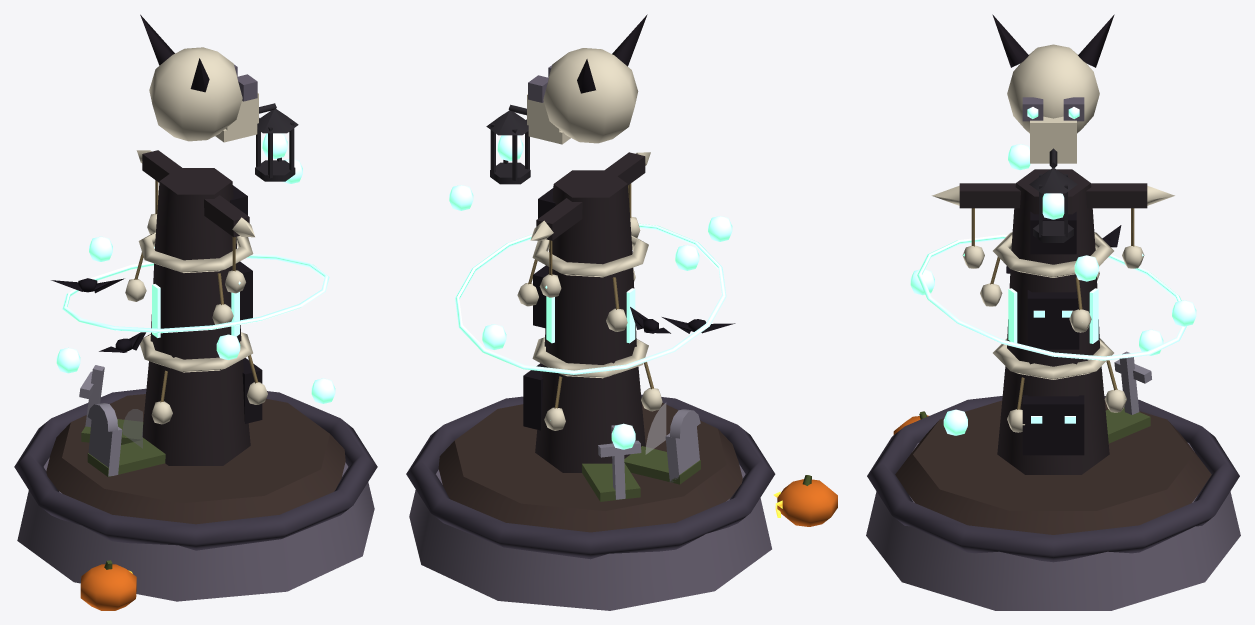
The model's file is tower_necromancer_soulLegion.glb.
The picture shows the model from 3 angles, left to right: view 1: azimuth 30°, elevation 25°; view 2: azimuth 150°, elevation 25°; view 3: azimuth 270°, elevation 25°; orthographic projection. The views are drawn at different scales.
Parts seen in each view (by area): view 1: grave_soil, base, base_rim, pole_0, skull_cranium, pole_2, pole_1, wisp_orbit, deco_hw_jack_body, bone_ring_1, crossbar, bone_ring_0 (+16 smaller); view 2: grave_soil, base, base_rim, pole_0, skull_cranium, pole_1, pole_2, wisp_orbit, deco_hw_jack_body, crossbar, bone_ring_1, bone_ring_0 (+12 smaller); view 3: grave_soil, base, base_rim, pole_0, skull_cranium, pole_2, pole_face_0, pole_1, crossbar, pole_face_1, wisp_orbit, bone_ring_0 (+16 smaller).
Part boxes in pixels (x1,y1,x2,y2): grave_soil: (46, 394, 345, 524); base: (17, 457, 374, 601); base_rim: (14, 388, 377, 550); pole_0: (142, 359, 250, 465); skull_cranium: (149, 47, 242, 141); pole_2: (155, 168, 236, 260); pole_1: (150, 248, 241, 359); wisp_orbit: (62, 254, 329, 333); deco_hw_jack_body: (80, 564, 136, 610); bone_ring_1: (138, 231, 253, 272); crossbar: (142, 150, 249, 237); bone_ring_0: (140, 332, 252, 372); grave_soil: (438, 402, 742, 532); base: (409, 464, 771, 610); base_rim: (406, 394, 775, 559); pole_0: (535, 365, 645, 472); skull_cranium: (543, 48, 638, 143); pole_1: (544, 251, 636, 364); pole_2: (549, 170, 632, 264); wisp_orbit: (455, 223, 726, 374); deco_hw_jack_body: (777, 479, 837, 526); crossbar: (536, 152, 645, 240); bone_ring_1: (532, 235, 648, 277); bone_ring_0: (532, 337, 648, 378); grave_soil: (895, 400, 1211, 534); base: (866, 442, 1240, 610); base_rim: (867, 396, 1239, 562); pole_0: (997, 366, 1109, 474); skull_cranium: (1007, 44, 1099, 133); pole_2: (1011, 169, 1095, 264); pole_face_0: (1022, 395, 1084, 455); pole_1: (1007, 253, 1099, 366); crossbar: (959, 183, 1147, 208); pole_face_1: (1027, 290, 1079, 349); wisp_orbit: (917, 234, 1186, 360); bone_ring_0: (993, 338, 1113, 379).
Bounding box in the file's own units: 0.4215 × 0.5985 × 0.4.
